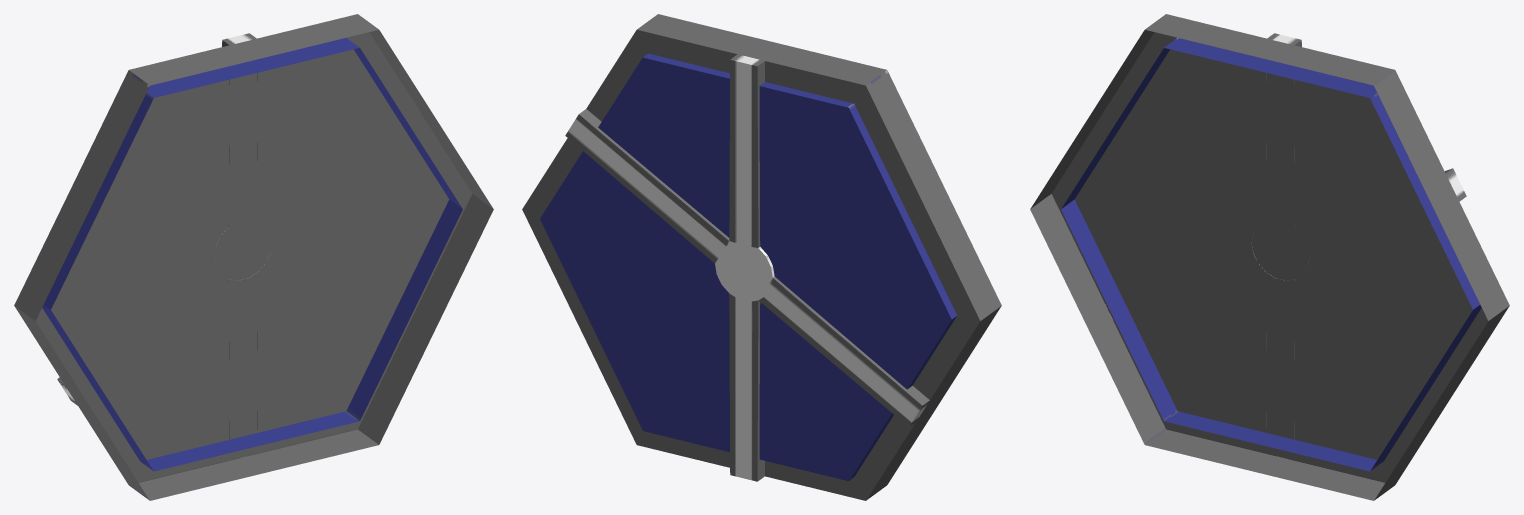
Rendered from Hexagons Middle 4 Trails X.fbx.
3 views of the same model, side by side, from view 1: azimuth 30°, elevation 25°; view 2: azimuth 150°, elevation 25°; view 3: azimuth 330°, elevation 25° (orthographic).
Parts seen in each view (by area): view 1: Cylinder.049; view 2: Cylinder.049; view 3: Cylinder.049.
Part boxes in pixels (x1,y1,x2,y2): Cylinder.049: (14,14,493,500); Cylinder.049: (522,14,1001,500); Cylinder.049: (1030,14,1509,500).
Bounding box in the file's own units: 14 × 12.12 × 1.53.
1 material, 1 textured.
